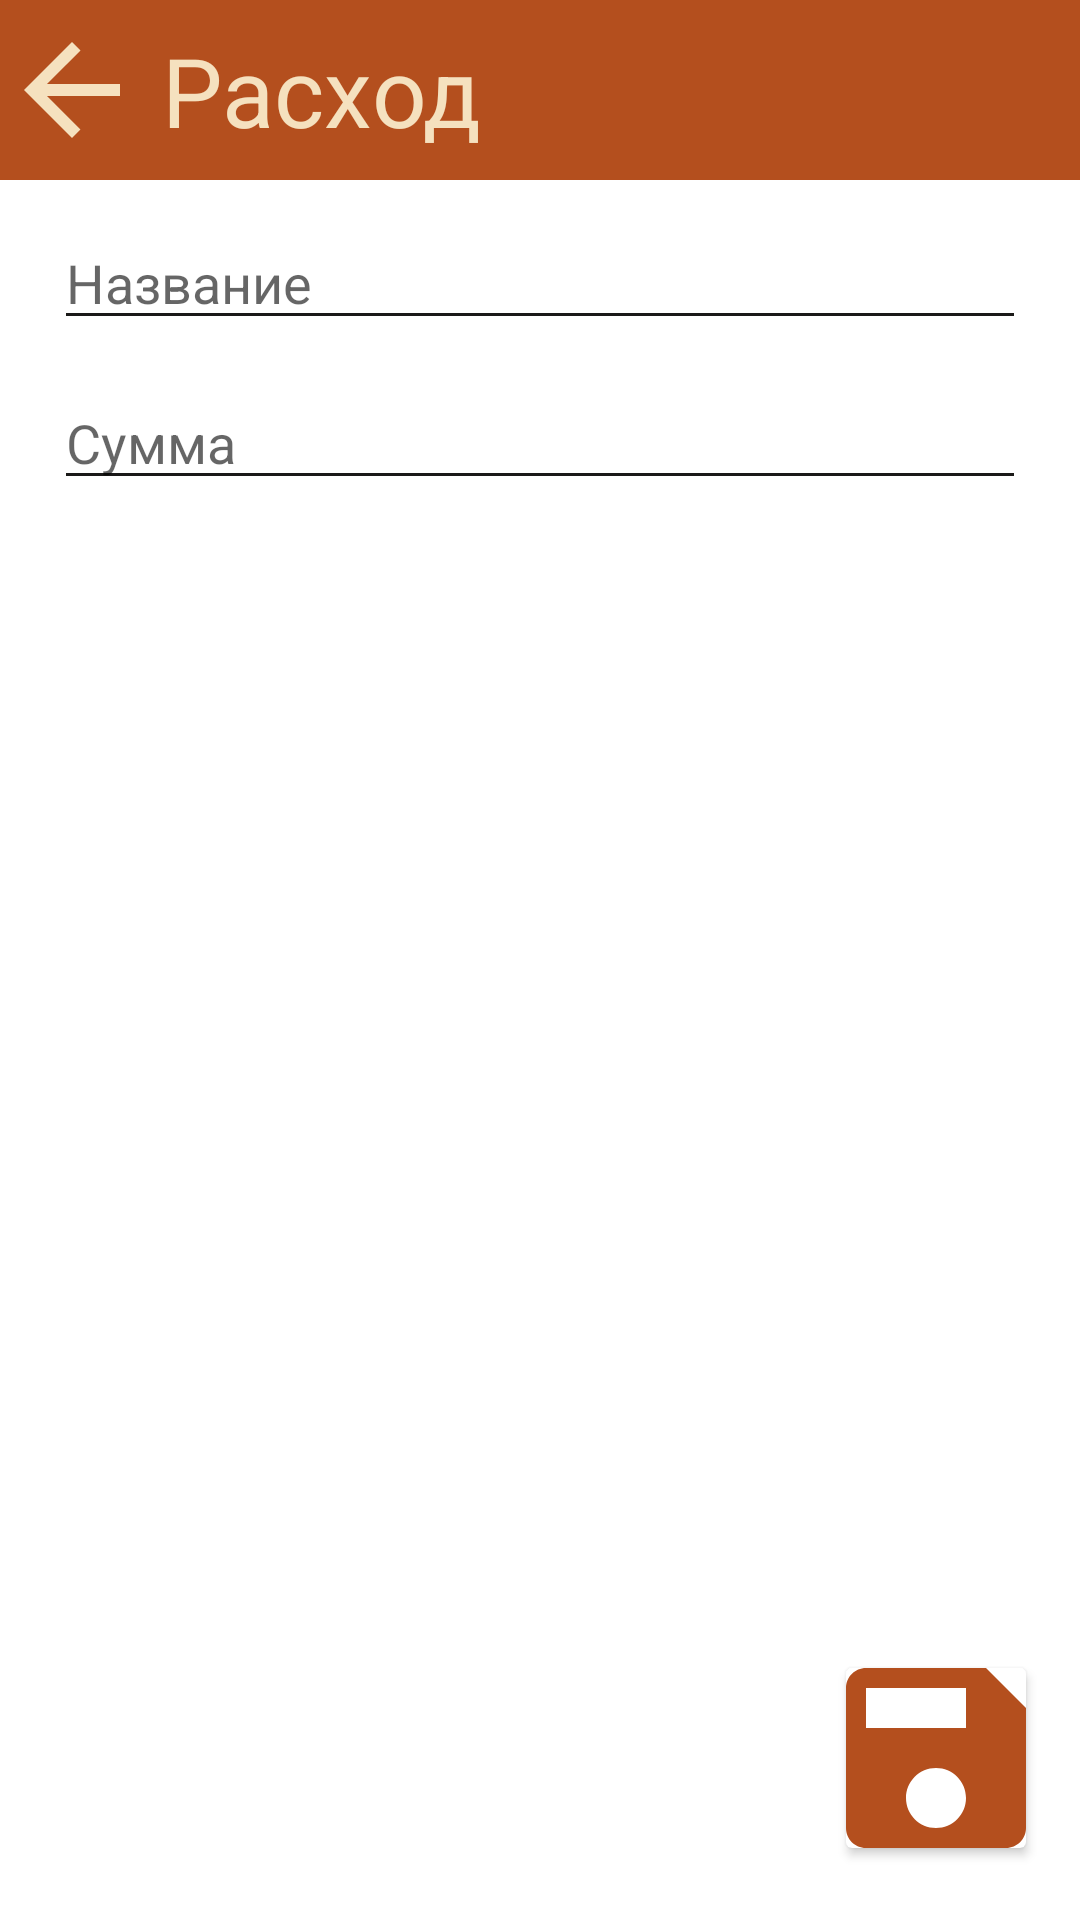

Screen size 1080 × 1920. Icon name, then its box in pixels as [left=x1, top=y1, right=x2, bottom=y2]:
back: [left=24, top=42, right=120, bottom=138]
save: [left=846, top=1668, right=1026, bottom=1848]
